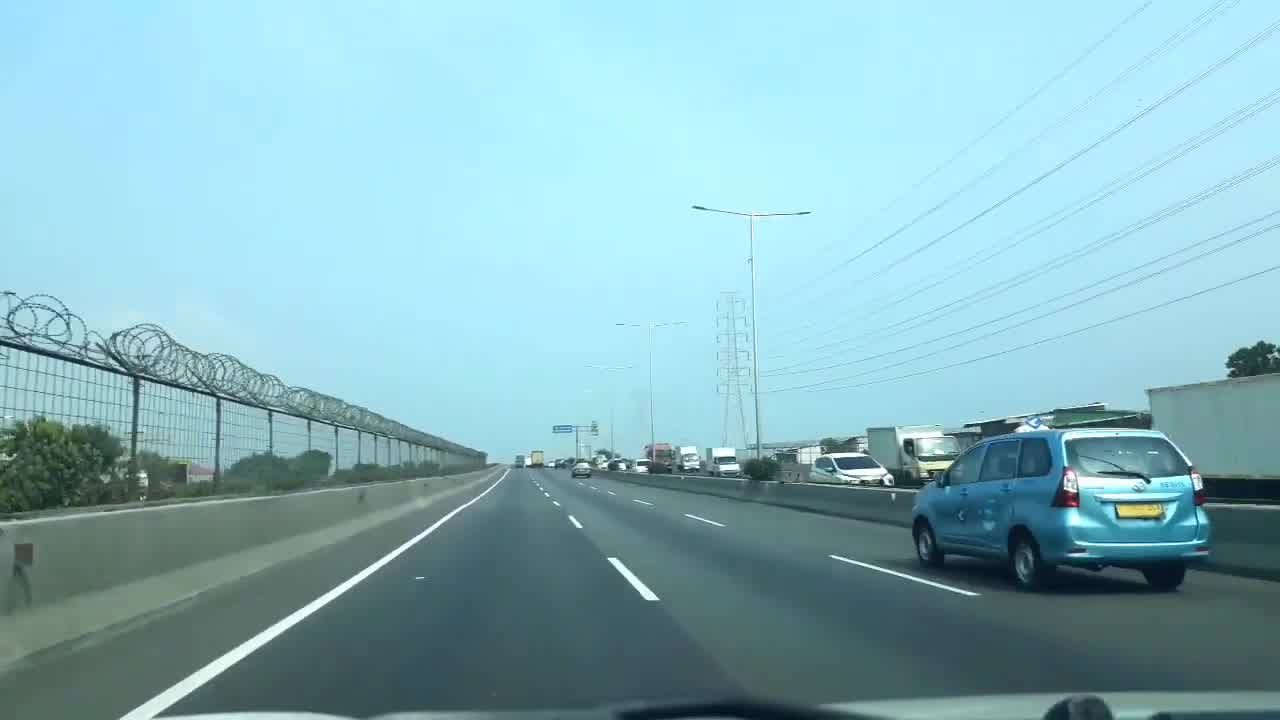plate_positive: (1115, 503, 1164, 518)
